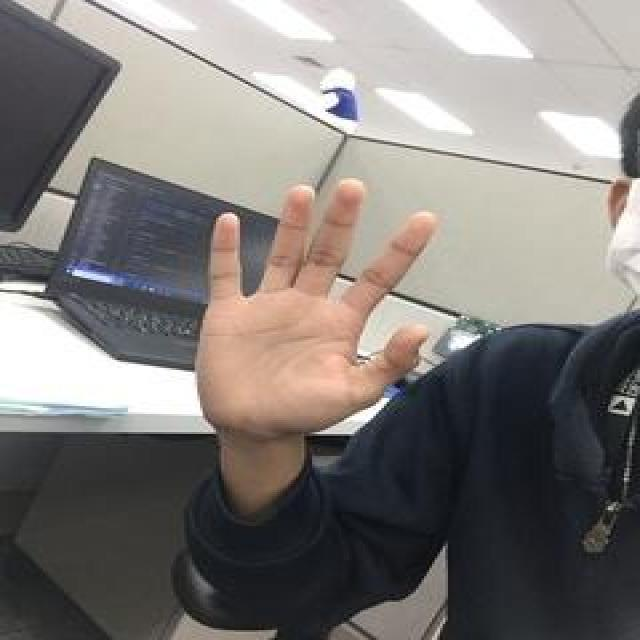hand: (195, 176, 438, 440)
